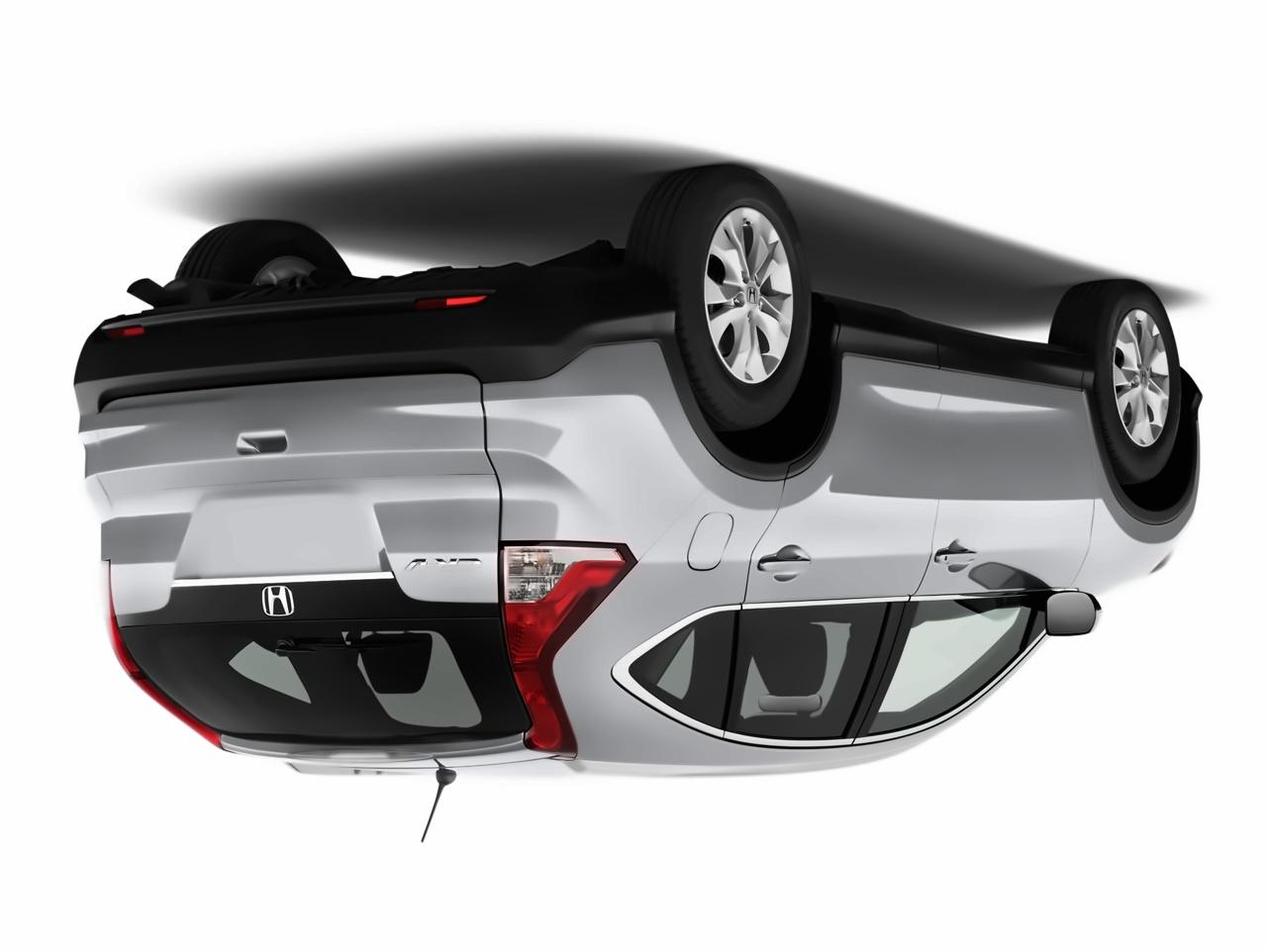Car boot: (89, 363, 533, 763)
Fender - -F-L-: (1072, 371, 1180, 603)
Fender - -R-L-: (637, 433, 792, 662)
Passenger-s door - -F-L-: (868, 353, 1096, 749)
Passenger-s door - -R-L-: (720, 349, 937, 750)
Rear bumper: (64, 262, 721, 559)
Rear light - -L-: (491, 532, 641, 770)
Rear light - -R-: (81, 550, 234, 757)
Side bumper - -L-: (801, 284, 1102, 398)
Side mirror - -L-: (1035, 580, 1108, 649)
